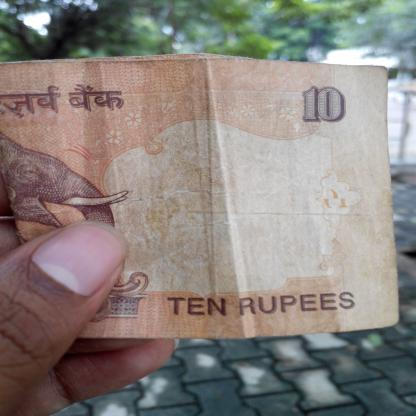Old10Back: (0, 52, 401, 340)
